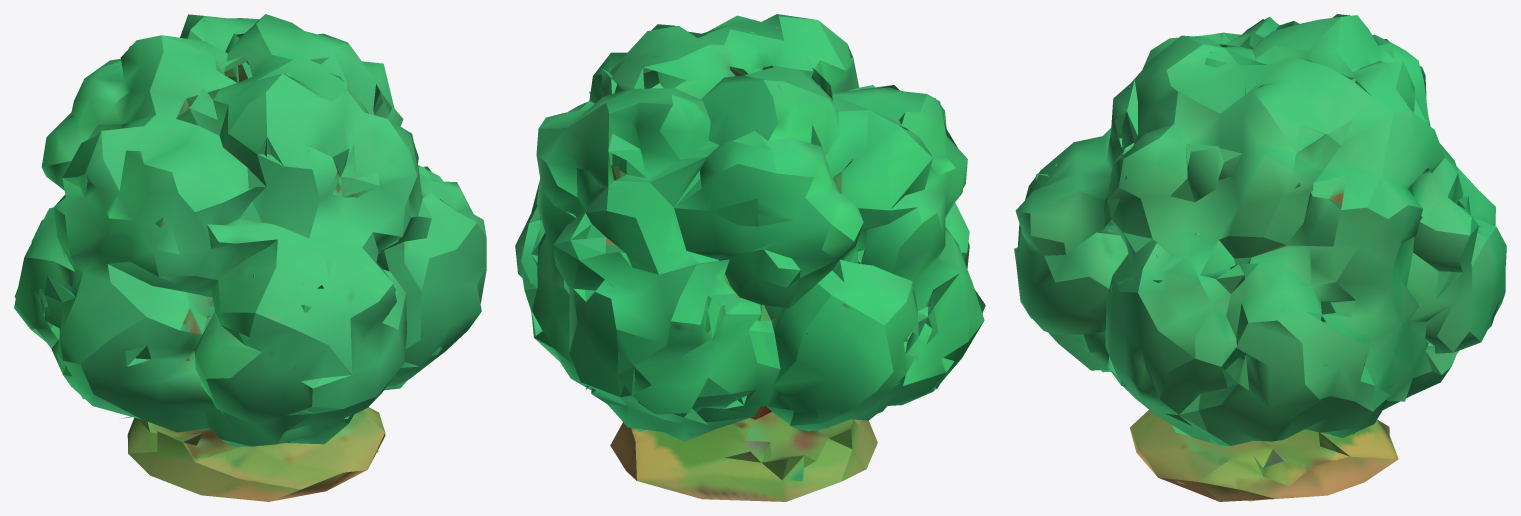
File: ENV-09.glb
3 views of the same model, side by side, from view 1: azimuth 30°, elevation 25°; view 2: azimuth 150°, elevation 25°; view 3: azimuth 270°, elevation 25° (orthographic). The views are drawn at different scales.
Visible parts, largest first — view 1: ENV-09; view 2: ENV-09; view 3: ENV-09.
Part boxes in pixels (x1,y1,x2,y2): ENV-09: (14, 14, 486, 501); ENV-09: (515, 14, 985, 501); ENV-09: (1014, 14, 1506, 501).
Bounding box in the file's own units: 0.9054 × 0.85 × 0.9321.
Materials: 1 (1 with a texture image).
